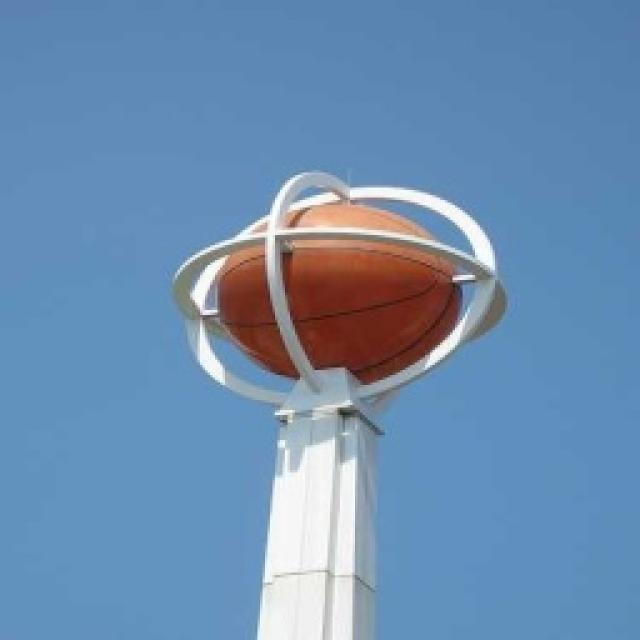rim: (225, 201, 463, 385)
